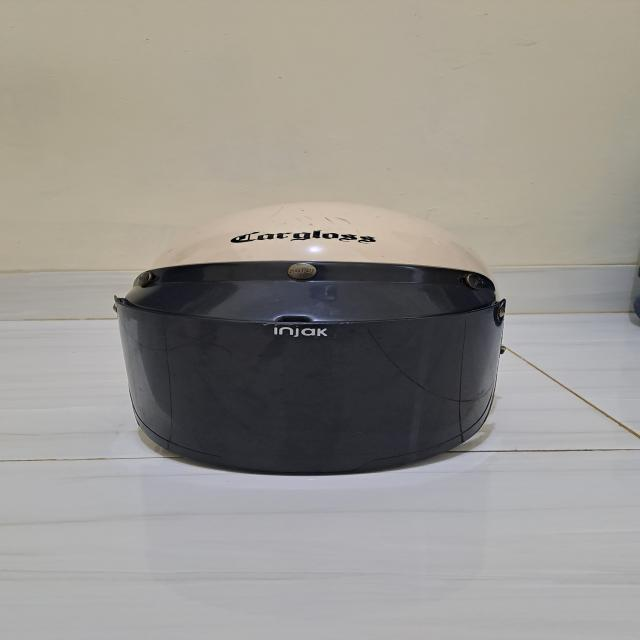Helm: (106, 199, 518, 488)
